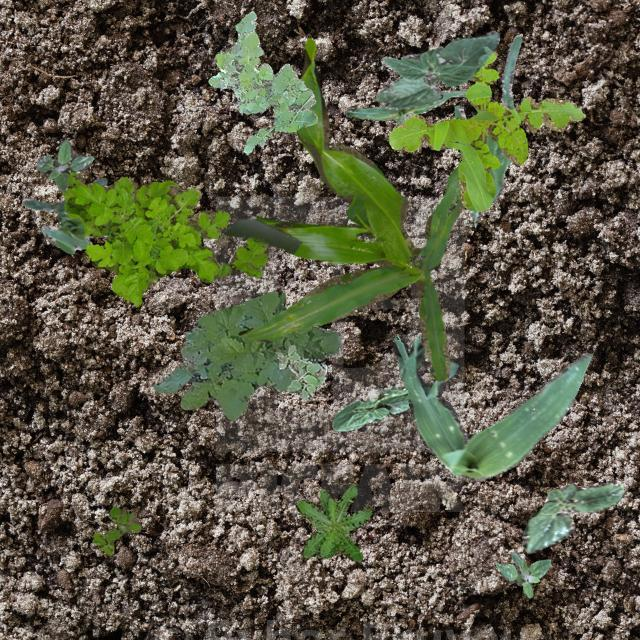crop: (220, 37, 462, 380), (392, 336, 592, 481), (452, 36, 520, 220), (372, 30, 498, 109), (520, 480, 622, 552), (20, 176, 106, 252), (344, 88, 466, 124), (331, 386, 408, 430)
weed: (388, 50, 584, 210), (60, 170, 268, 306), (152, 290, 340, 420), (208, 10, 316, 154), (294, 484, 370, 560), (276, 344, 326, 401), (36, 140, 92, 190), (494, 550, 550, 596), (92, 506, 140, 554)
